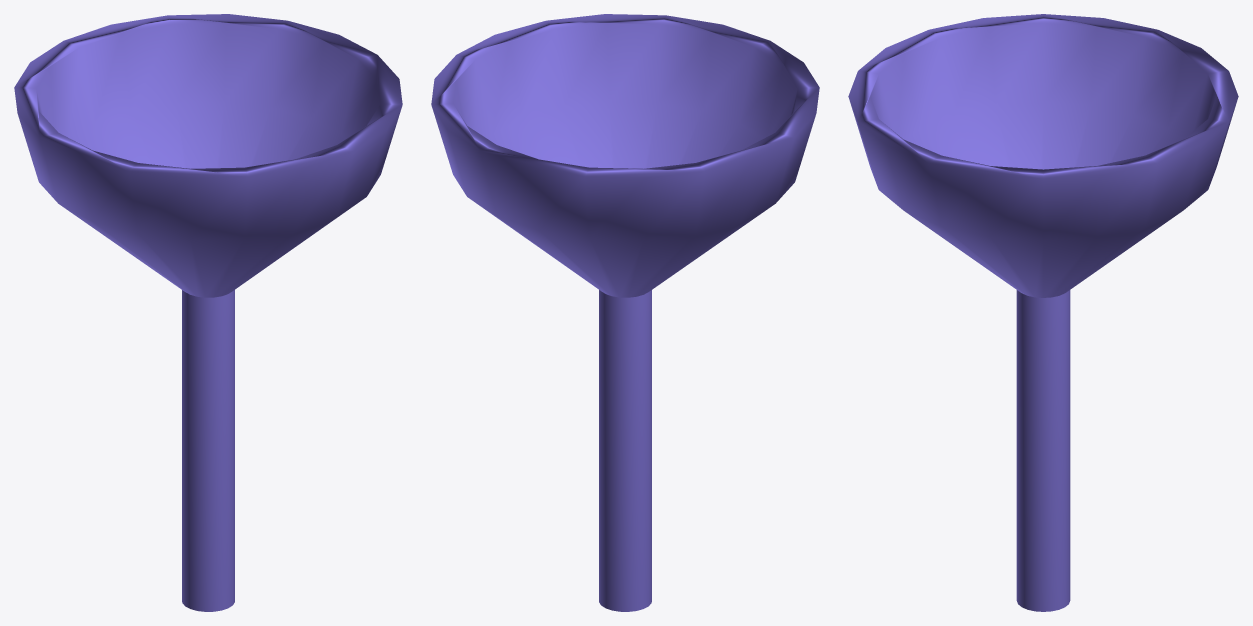
File: funnel.fbx
The picture shows the model from 3 angles, left to right: view 1: azimuth 30°, elevation 25°; view 2: azimuth 150°, elevation 25°; view 3: azimuth 270°, elevation 25°; orthographic projection.
Visible parts, largest first — view 1: polySurface1; view 2: polySurface1; view 3: polySurface1.
Boxes of the visible parts, x1,y1,x2,y2 form: polySurface1: (14,14,402,611); polySurface1: (431,14,819,611); polySurface1: (848,14,1238,611).
Bounding box in the file's own units: 15.06 × 21.47 × 15.06.
